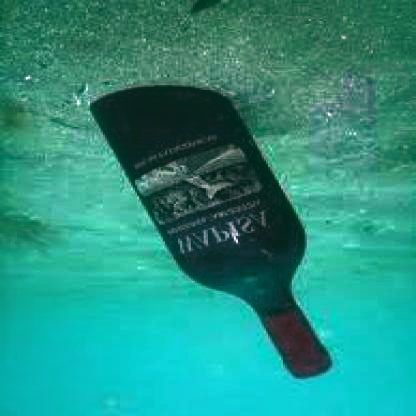gbottle: (88, 88, 339, 379)
